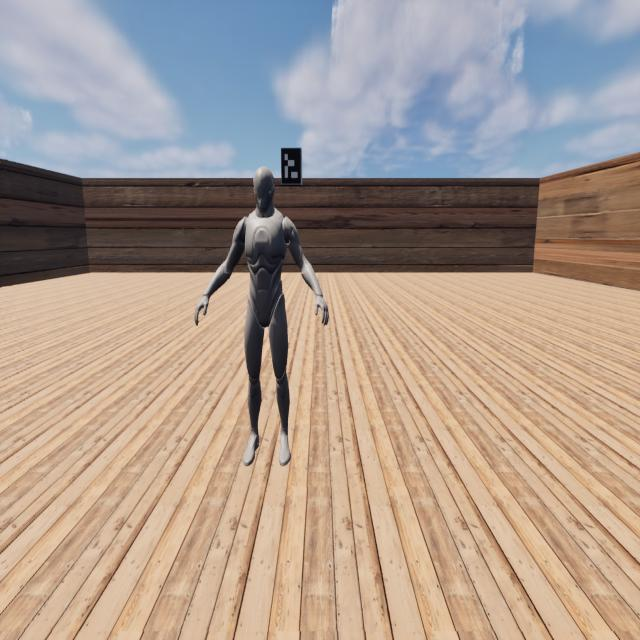aruco: (281, 148, 301, 184)
hip: (247, 294, 286, 311)
